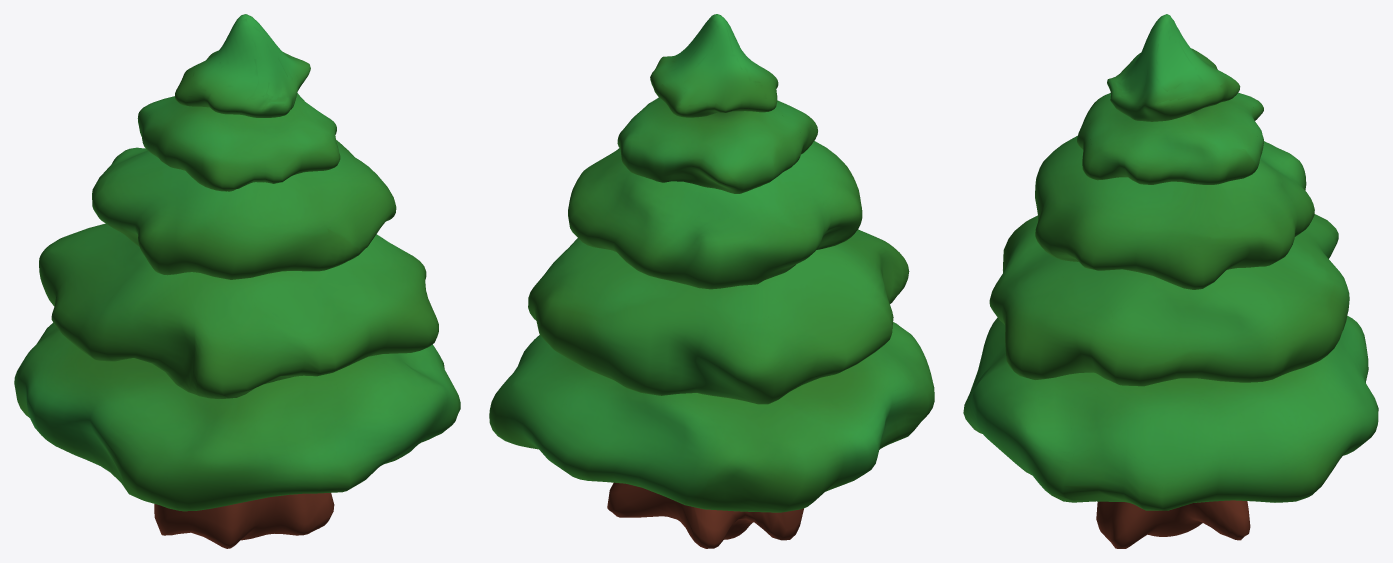
The model's file is christmas_tree.glb.
3 views of the same model, side by side, from view 1: azimuth 30°, elevation 25°; view 2: azimuth 150°, elevation 25°; view 3: azimuth 270°, elevation 25° (orthographic).
Visible parts, largest first — view 1: Cube.001, Cube; view 2: Cube.001, Cube; view 3: Cube.001, Cube.
Part boxes in pixels (x1,y1,x2,y2): Cube.001: [14, 14, 460, 511]; Cube: [154, 493, 334, 548]; Cube.001: [489, 14, 934, 512]; Cube: [607, 482, 803, 548]; Cube.001: [963, 14, 1378, 510]; Cube: [1096, 500, 1250, 548].
Size of the model in its own units: 1.18 by 1.57 by 1.13.
2 materials, 1 textured.
